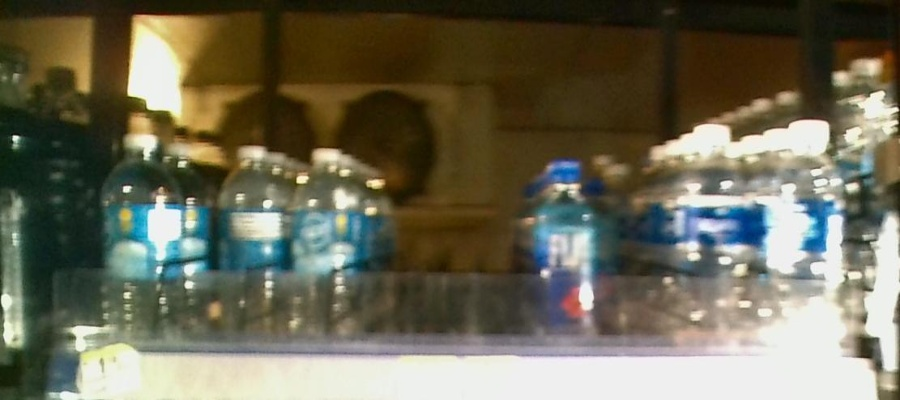bottle: (95, 122, 176, 348), (776, 116, 851, 357), (681, 120, 753, 357), (215, 132, 285, 353), (291, 135, 356, 353), (536, 156, 600, 358)
